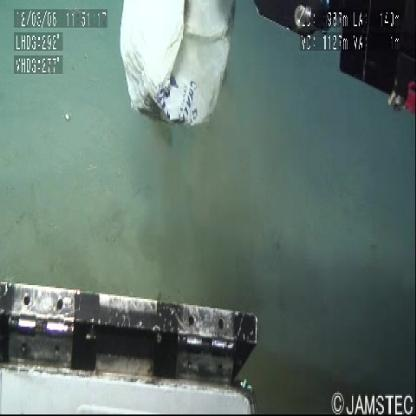Rov: (1, 259, 263, 416), (252, 1, 416, 125)
Rác: (116, 1, 244, 136)
